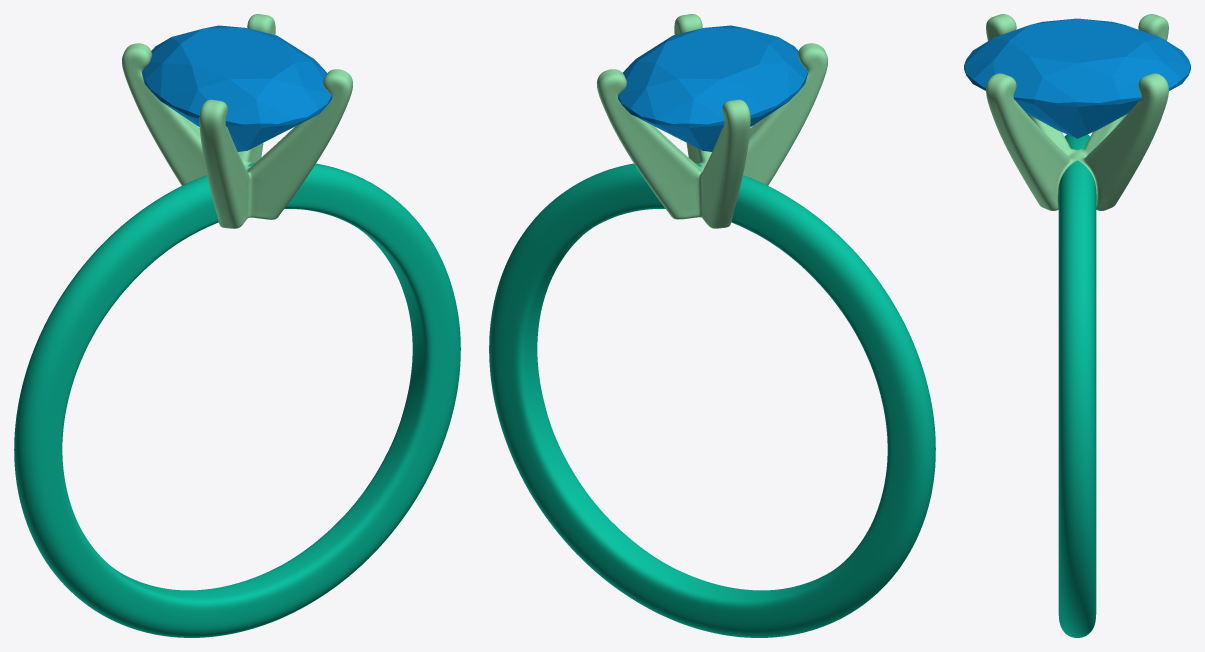
Rendered from BE1199_OV_200ct_RENDER.glb.
3 renders of one model, left to right at view 1: azimuth 30°, elevation 25°; view 2: azimuth 150°, elevation 25°; view 3: azimuth 270°, elevation 25°, orthographic.
Visible parts, largest first — view 1: Metal 01, Metal 02, CS_Diamond_Oval; view 2: Metal 01, Metal 02, CS_Diamond_Oval; view 3: Metal 01, CS_Diamond_Oval, Metal 02.
Part boxes in pixels (x1,y1,x2,y2): Metal 01: (14, 163, 460, 637); Metal 02: (122, 14, 352, 228); CS_Diamond_Oval: (142, 25, 331, 151); Metal 01: (489, 163, 935, 637); Metal 02: (597, 14, 827, 228); CS_Diamond_Oval: (618, 25, 807, 151); Metal 01: (1058, 134, 1096, 637); CS_Diamond_Oval: (964, 18, 1190, 138); Metal 02: (986, 14, 1168, 210).
Bounding box in the file's own units: 20.12 × 25.12 × 9.
